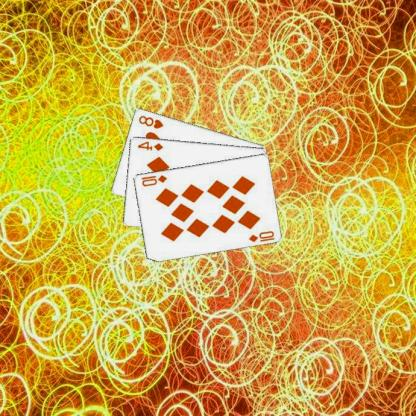10D: (140, 172, 170, 188), (248, 228, 277, 243)
4D: (136, 139, 166, 151)
8H: (138, 113, 166, 130)
